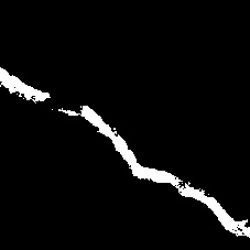crack: (57, 106, 245, 238), (2, 67, 48, 103)
